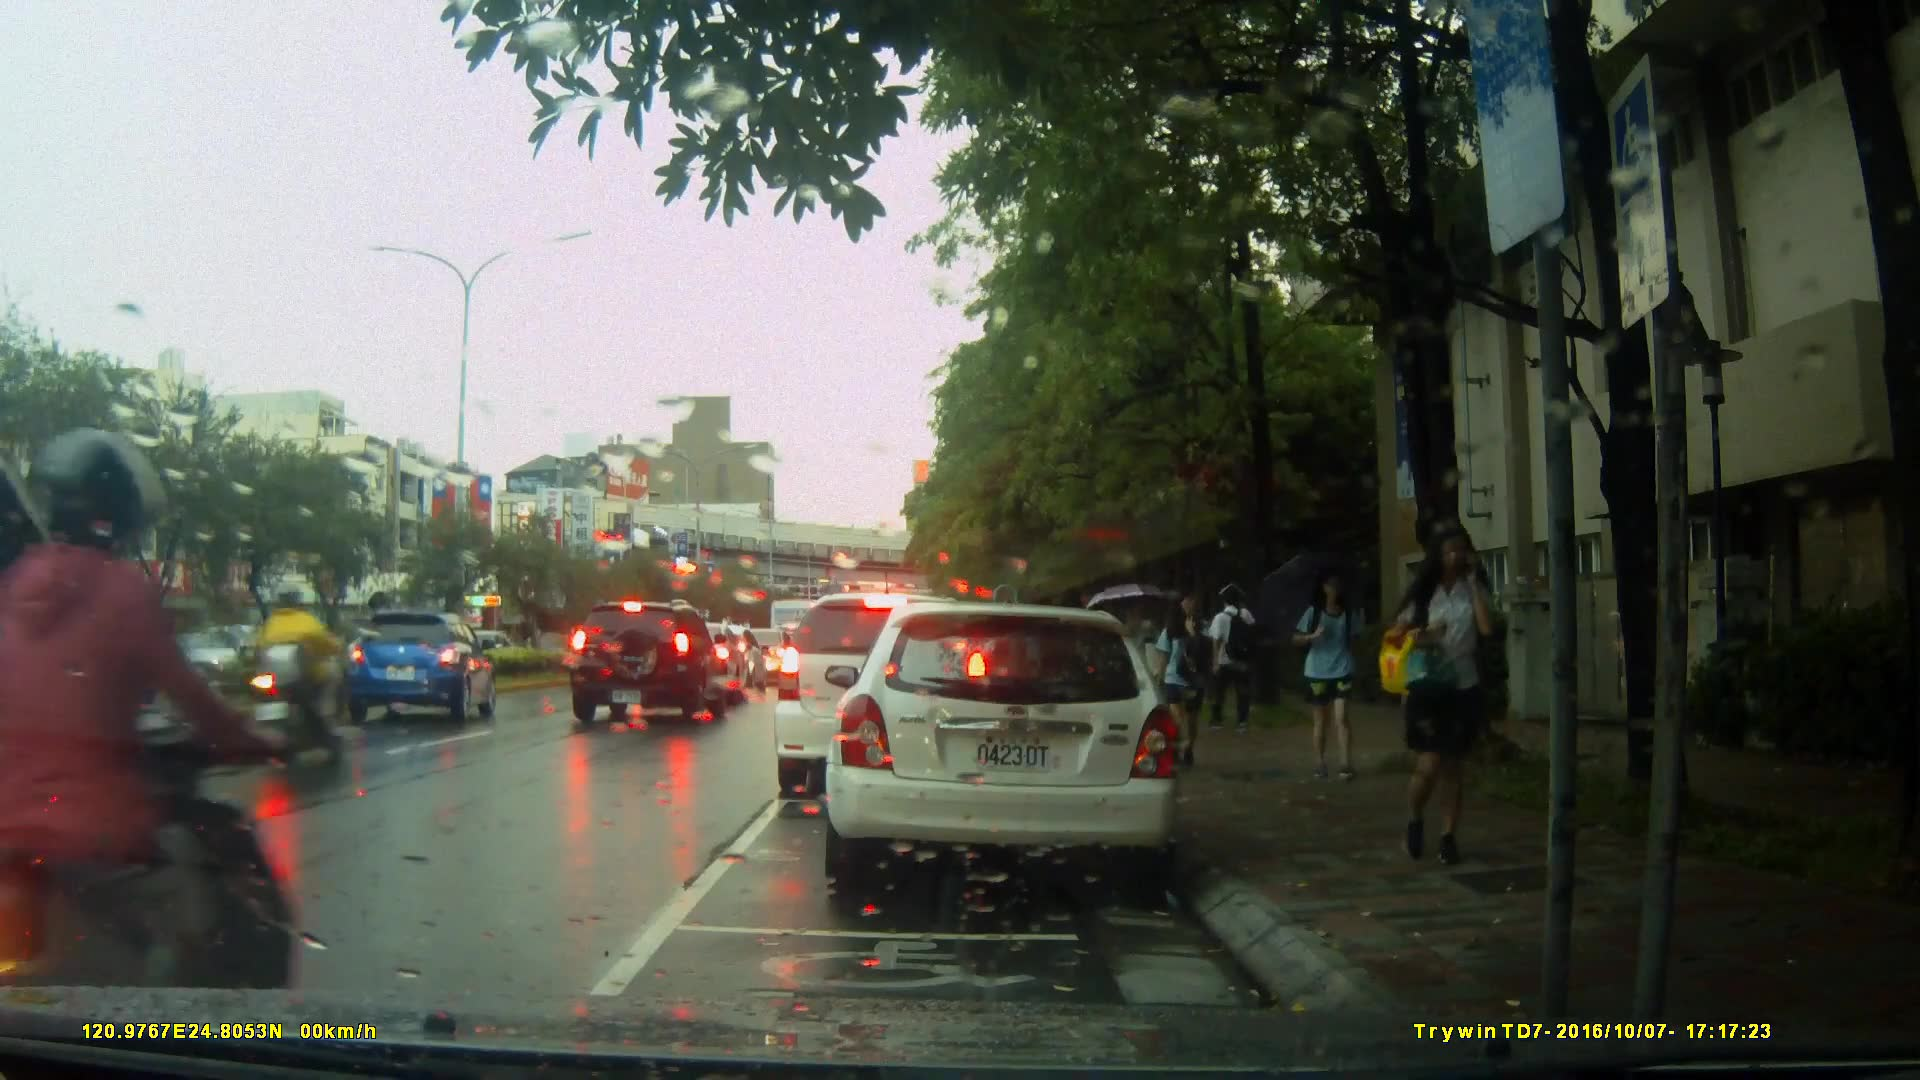pedestrian: (1399, 513, 1510, 869), (1295, 567, 1364, 786), (1164, 570, 1234, 762)
rider: (1, 421, 290, 1079), (248, 578, 342, 762)
vehicle: (815, 593, 1204, 909), (771, 590, 994, 802), (566, 600, 732, 726), (343, 610, 501, 723)
